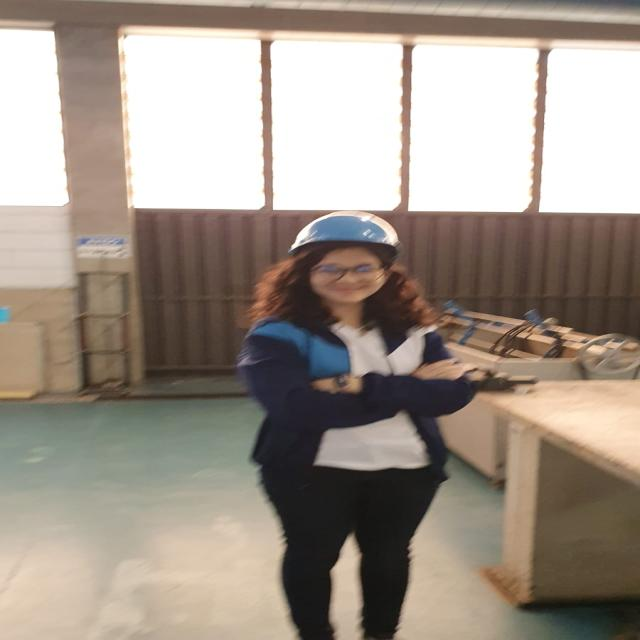sem_oculos: (299, 259, 410, 286)
